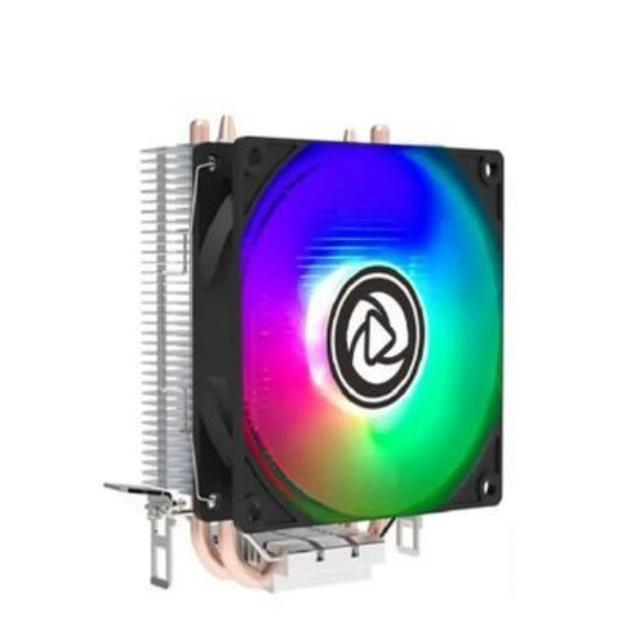CPU_Fan: (96, 101, 516, 584)
